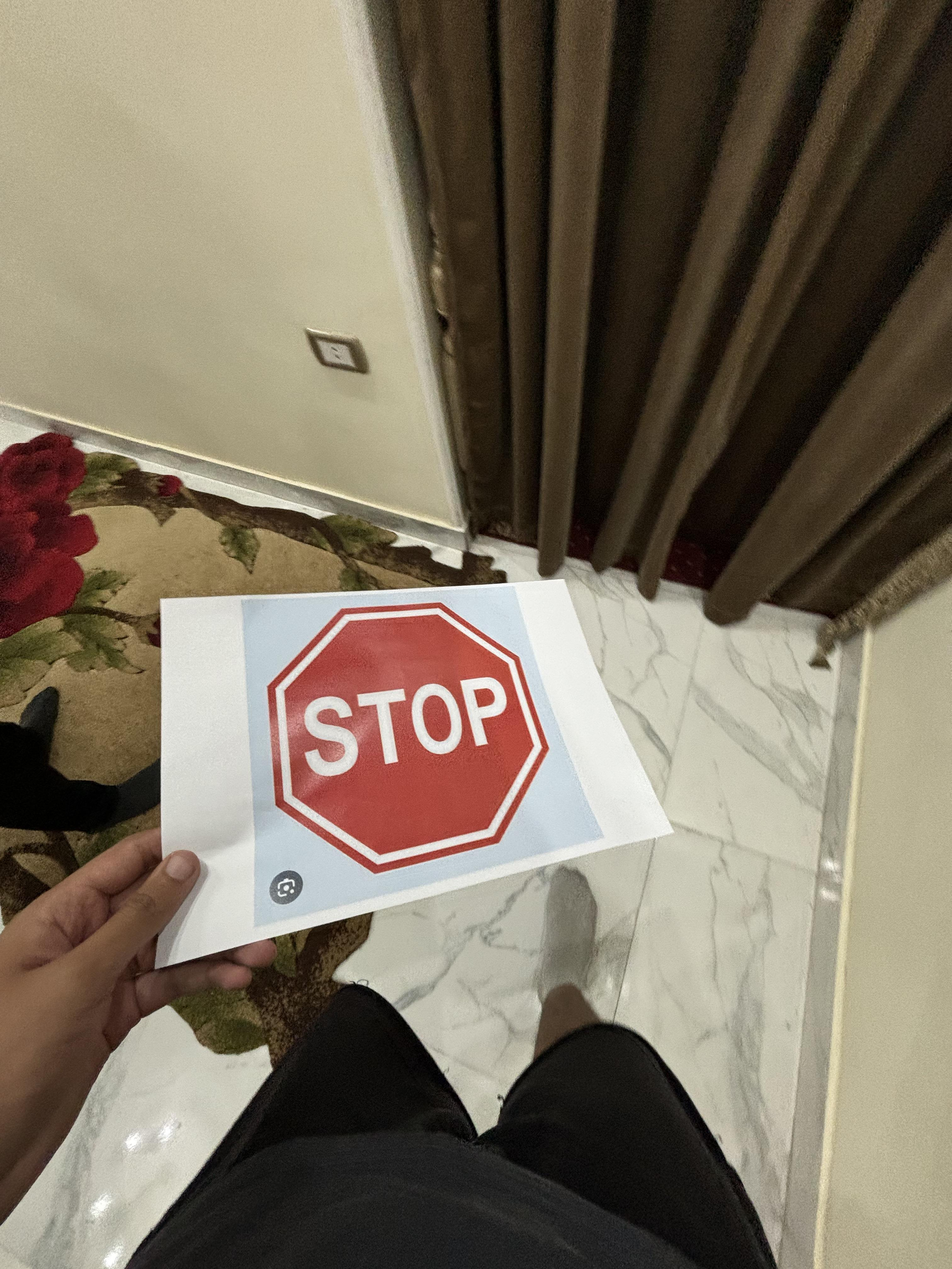Stop: (237, 592, 563, 875)
